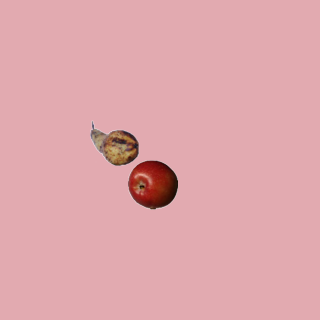Apple Braeburn: (127, 159, 177, 209)
Pear Abate: (89, 118, 139, 168)
